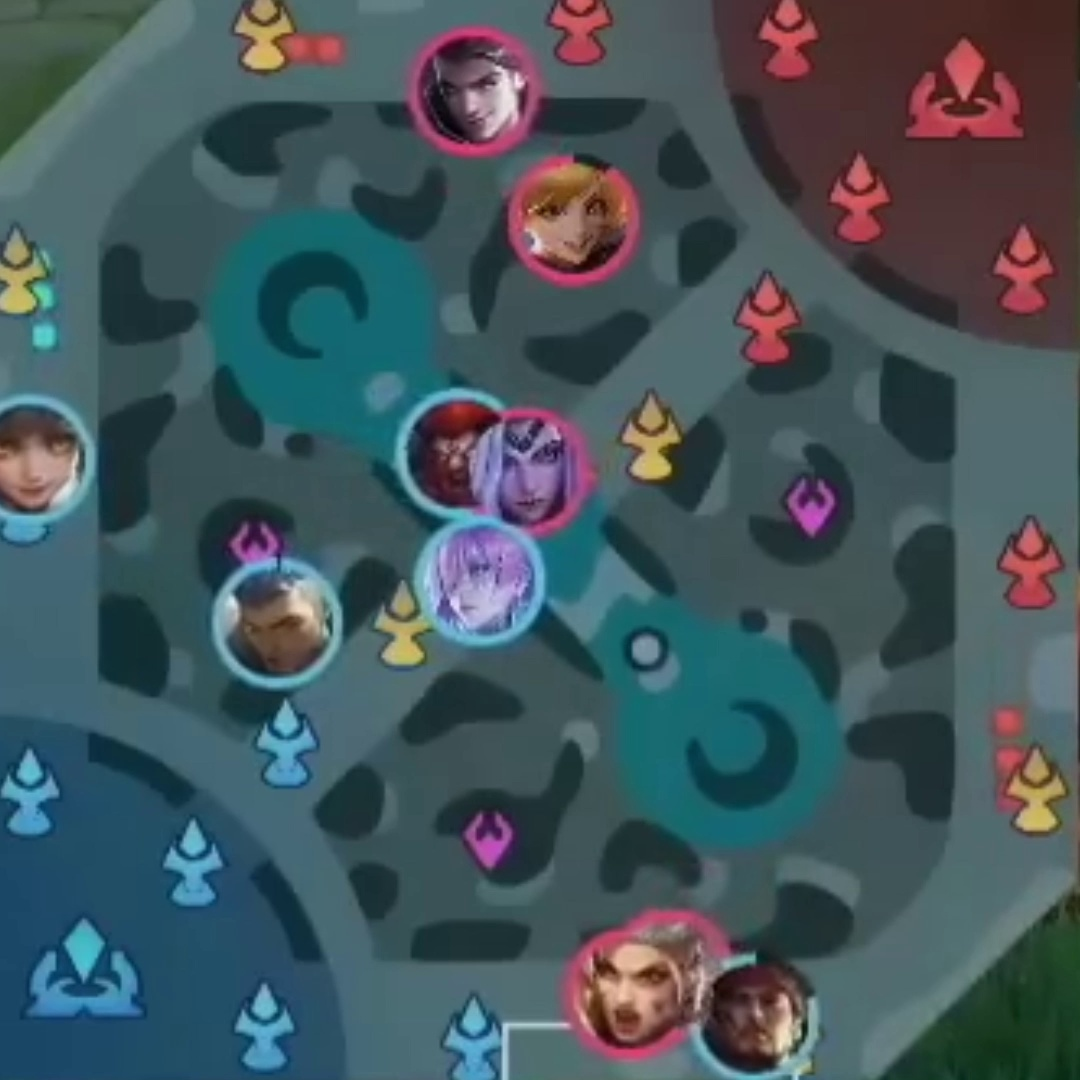Claude: (419, 38, 532, 146)
Fanny: (523, 166, 618, 260)
Fredrinn: (223, 567, 343, 680)
Lapu-Lapu: (705, 967, 819, 1071)
Masha: (576, 943, 676, 1051)
Minotaur: (409, 400, 490, 503)
Novaria: (427, 531, 528, 634)
Valentina: (497, 424, 580, 521)
Wanwan: (1, 410, 90, 511)
